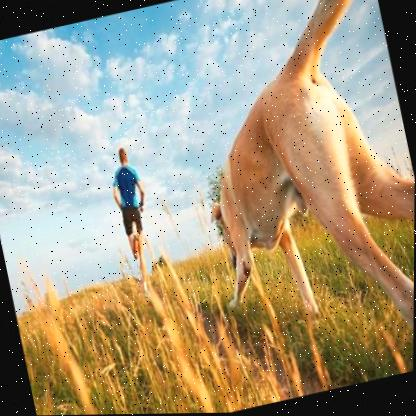dog: (160, 0, 416, 409)
person: (96, 137, 173, 303)
